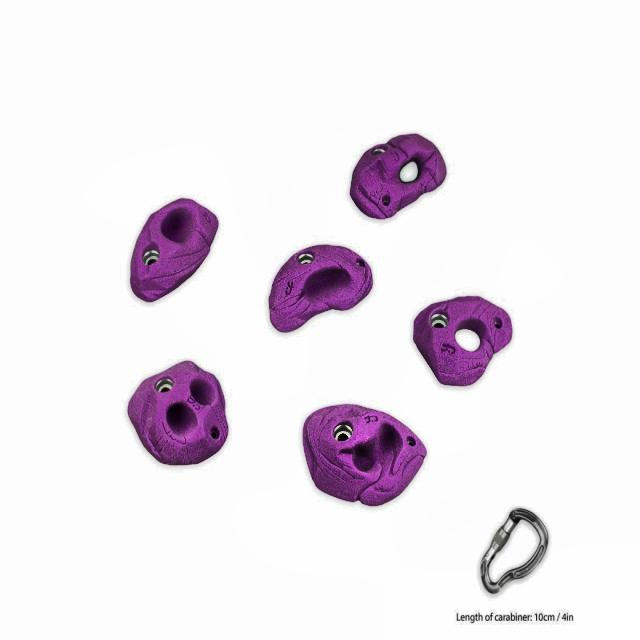Hold: (299, 405, 430, 510), (128, 353, 227, 469), (127, 190, 212, 312), (268, 242, 375, 332), (343, 132, 452, 220), (411, 296, 510, 389)
